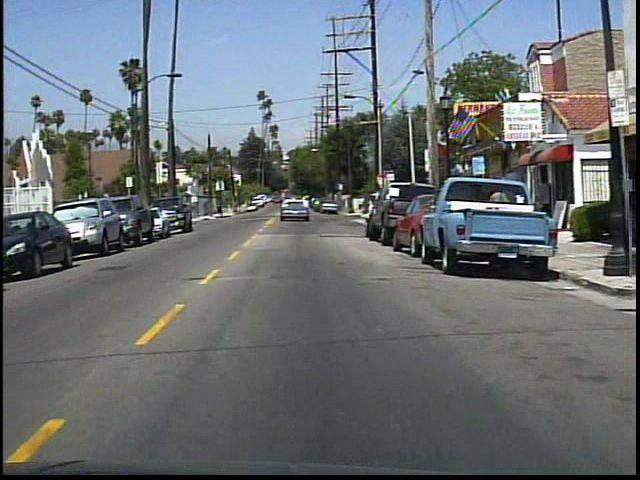person: (489, 183, 514, 234)
